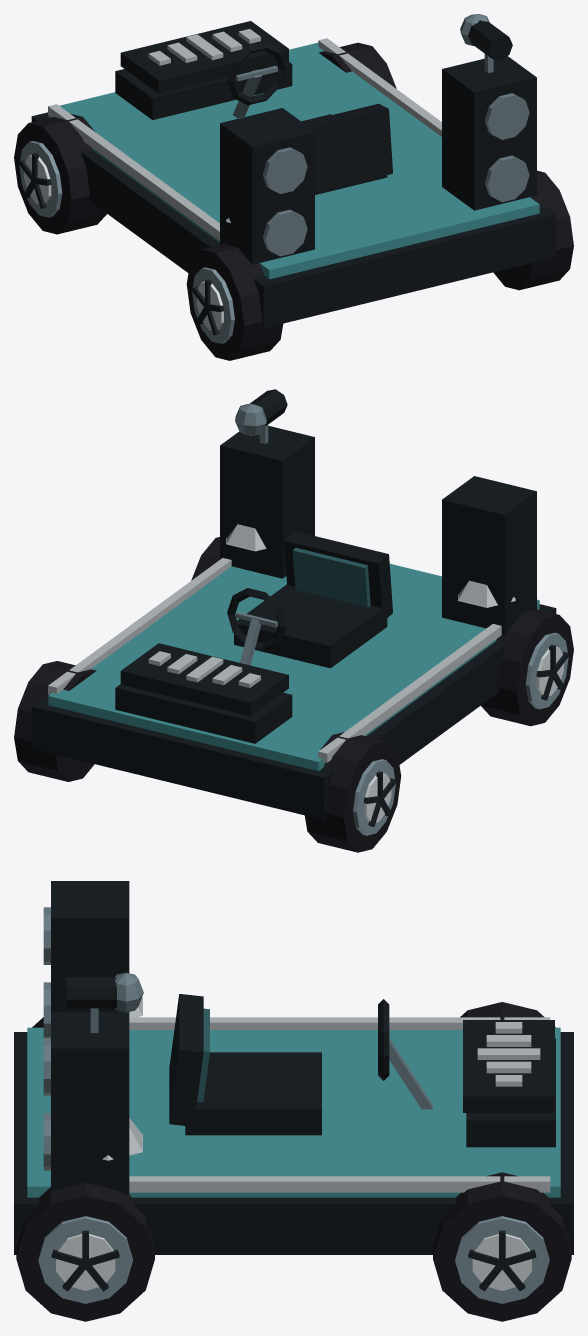
File: kart.glb
3 views of the same model, one above another, from view 1: azimuth 30°, elevation 25°; view 2: azimuth 150°, elevation 25°; view 3: azimuth 270°, elevation 25° (orthographic). The views are drawn at different scales.
Visible parts, largest first — view 1: identity-stage-stage-platform-and-pa-towers, identity-stage-driver-cockpit, wheel-rear-left, wheel-front-left, identity-stage-motif-equalizer, wheel-rear-right, identity-stage-motif-microphone, wheel-front-right; view 2: identity-stage-stage-platform-and-pa-towers, identity-stage-driver-cockpit, wheel-front-left, wheel-rear-left, identity-stage-motif-equalizer, wheel-front-right, identity-stage-motif-microphone, identity-stage-motif-gems; view 3: identity-stage-stage-platform-and-pa-towers, identity-stage-driver-cockpit, wheel-front-right, wheel-rear-right, identity-stage-motif-equalizer, identity-stage-motif-microphone, wheel-front-left, identity-stage-motif-gems.
Boxes of the visible parts, x1=… form: identity-stage-stage-platform-and-pa-towers: x1=31, y1=38, x2=556, y2=328; identity-stage-driver-cockpit: x1=227, y1=42, x2=392, y2=194; wheel-rear-left: x1=186, y1=244, x2=283, y2=360; wheel-front-left: x1=14, y1=113, x2=106, y2=234; identity-stage-motif-equalizer: x1=120, y1=21, x2=288, y2=93; wheel-rear-right: x1=493, y1=170, x2=573, y2=290; identity-stage-motif-microphone: x1=460, y1=14, x2=512, y2=73; wheel-front-right: x1=318, y1=42, x2=396, y2=88; identity-stage-stage-platform-and-pa-towers: x1=31, y1=426, x2=556, y2=819; identity-stage-driver-cockpit: x1=227, y1=531, x2=392, y2=668; wheel-front-left: x1=304, y1=732, x2=401, y2=852; wheel-rear-left: x1=481, y1=609, x2=573, y2=726; identity-stage-motif-equalizer: x1=120, y1=643, x2=288, y2=716; wheel-front-right: x1=14, y1=661, x2=96, y2=781; identity-stage-motif-microphone: x1=235, y1=389, x2=287, y2=443; identity-stage-motif-gems: x1=226, y1=524, x2=515, y2=607; identity-stage-stage-platform-and-pa-towers: x1=14, y1=881, x2=573, y2=1254; identity-stage-driver-cockpit: x1=169, y1=994, x2=432, y2=1135; wheel-front-right: x1=433, y1=1172, x2=571, y2=1321; wheel-rear-right: x1=16, y1=1182, x2=154, y2=1321; identity-stage-motif-equalizer: x1=463, y1=1020, x2=554, y2=1112; identity-stage-motif-microphone: x1=66, y1=972, x2=143, y2=1032; wheel-front-left: x1=460, y1=1002, x2=555, y2=1027; identity-stage-motif-gems: x1=102, y1=997, x2=142, y2=1160.
Size of the model in its own units: 2.16 by 1.57 by 2.5.
